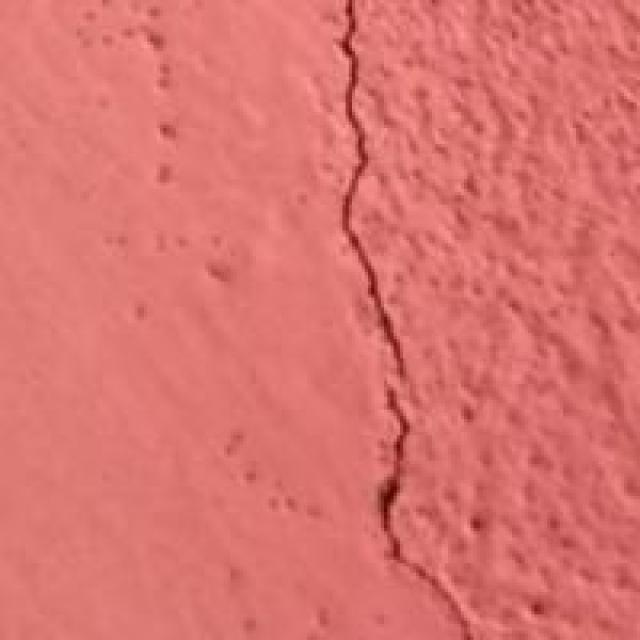Crack: (307, 0, 477, 618)
